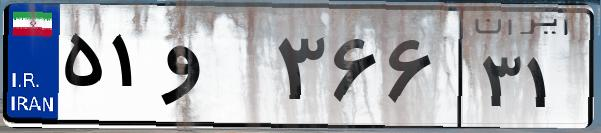1: (525, 38, 570, 115), (110, 28, 158, 98)
3: (270, 28, 330, 110), (475, 38, 525, 113)
5: (57, 26, 110, 100)
6: (385, 28, 445, 110), (330, 28, 385, 110)
و: (158, 20, 270, 120)
